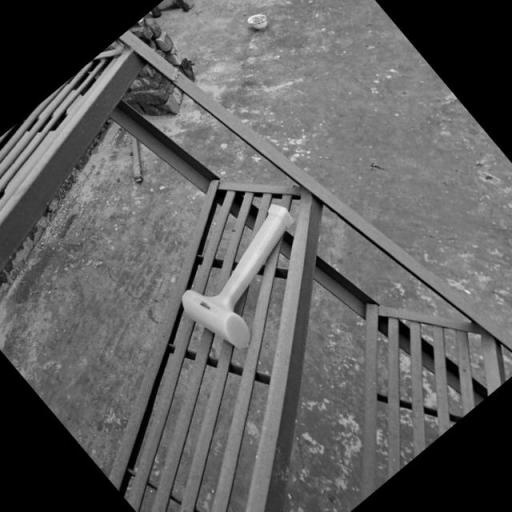mallet: (166, 197, 340, 363)
